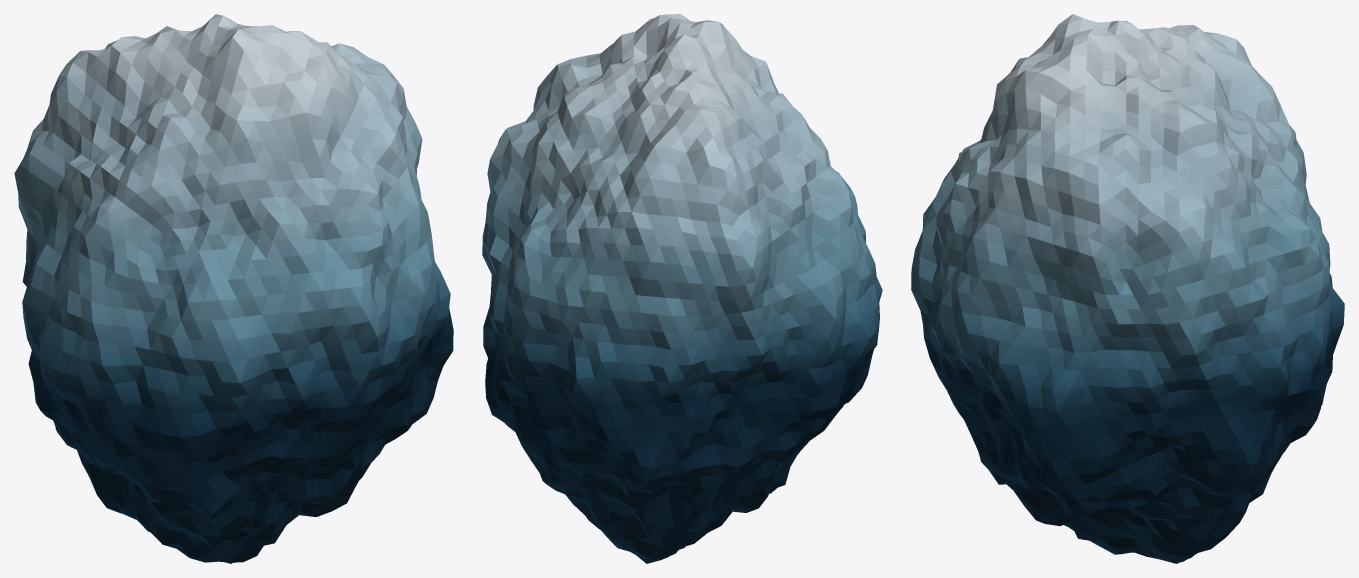
The model's file is iceberg_large.glb.
The picture shows the model from 3 angles, left to right: view 1: azimuth 30°, elevation 25°; view 2: azimuth 150°, elevation 25°; view 3: azimuth 270°, elevation 25°; orthographic projection. The views are drawn at different scales.
Parts seen in each view (by area): view 1: iceberg_large; view 2: iceberg_large; view 3: iceberg_large.
Boxes of the visible parts, x1,y1,x2,y2 form: iceberg_large: [14, 14, 453, 563]; iceberg_large: [482, 14, 882, 563]; iceberg_large: [911, 14, 1344, 563].
Size of the model in its own units: 36.91 by 50.97 by 37.06.
